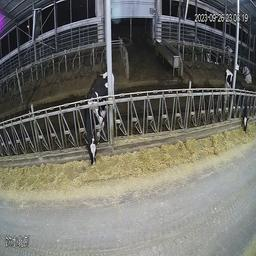cow: (84, 65, 113, 166), (223, 66, 249, 137), (205, 49, 220, 68), (241, 61, 252, 84)
